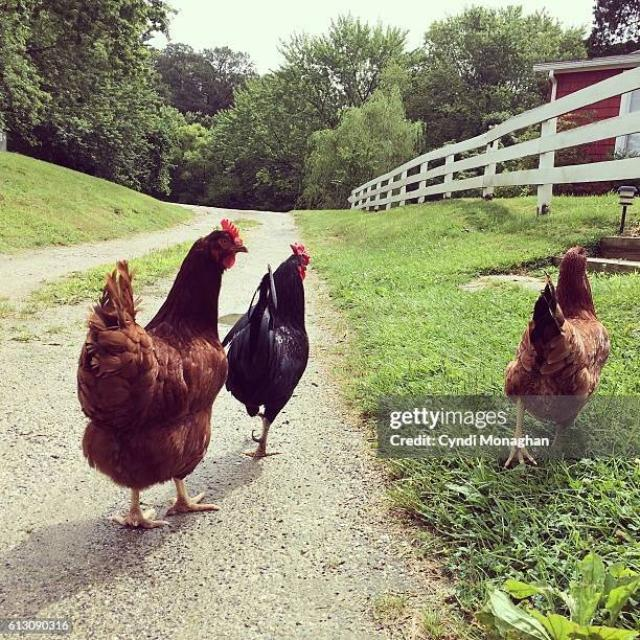Chicken: (77, 218, 249, 529), (503, 243, 610, 469), (224, 243, 312, 459)
